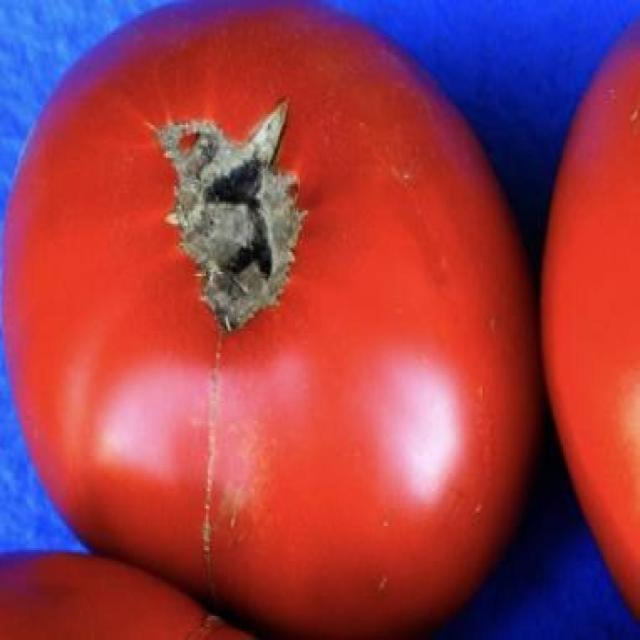Blossom End Rot Fruit: (93, 60, 207, 224)
